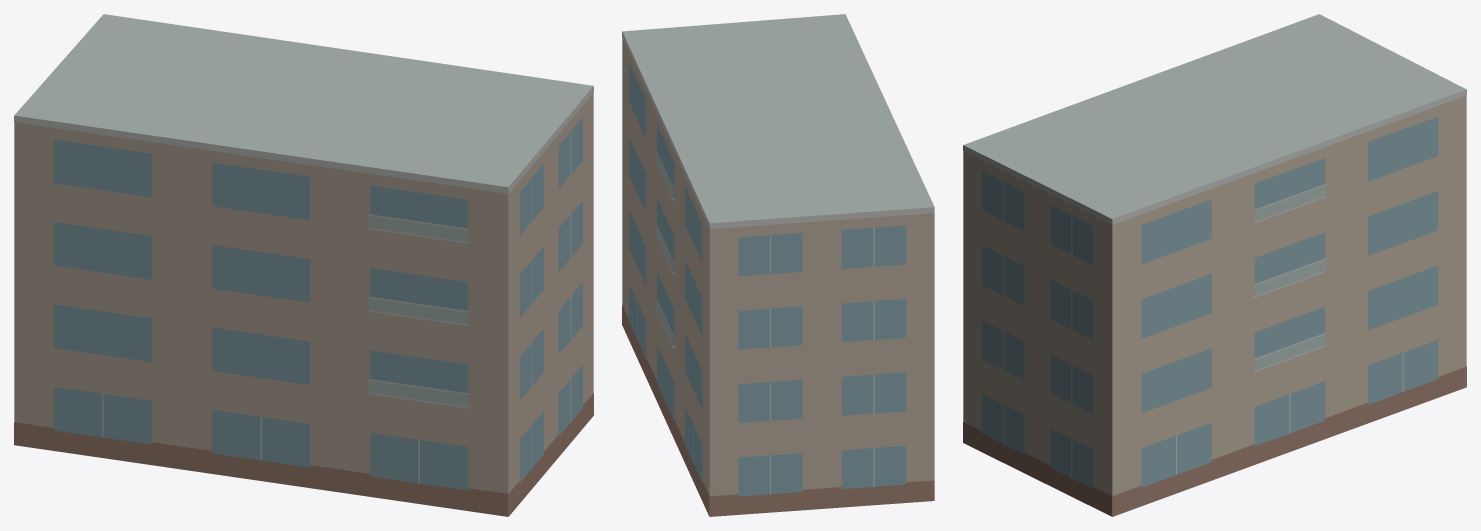
File: survey-upis-32888182.glb
The picture shows the model from 3 angles, left to right: view 1: azimuth 30°, elevation 25°; view 2: azimuth 150°, elevation 25°; view 3: azimuth 270°, elevation 25°; orthographic projection. The views are drawn at different scales.
Parts seen in each view (by area): view 1: survey-upis-32888182.tmp; view 2: survey-upis-32888182.tmp; view 3: survey-upis-32888182.tmp.
Part boxes in pixels (x1,y1,x2,y2): survey-upis-32888182.tmp: (14, 14, 593, 516); survey-upis-32888182.tmp: (622, 14, 934, 516); survey-upis-32888182.tmp: (963, 14, 1466, 516).
Size of the model in its own units: 18 by 12.18 by 18.68.
